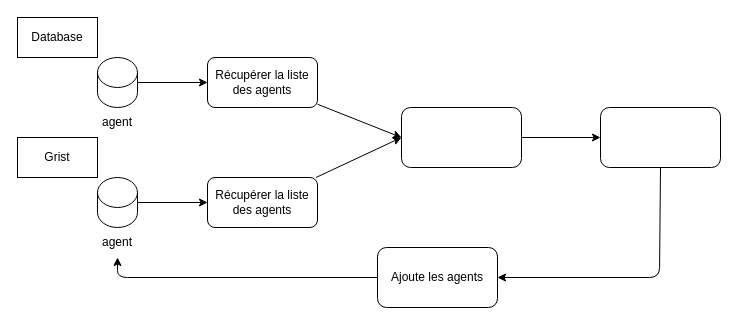
Some shapes in this 738 by 325 pixel diagram are drawn without their labels. Here are the shapes that lost their labels. From the top down, the centre of each, then its label:
point (461, 137): Fusionner les listes
point (660, 137): Conserver que les nouveaux agents
